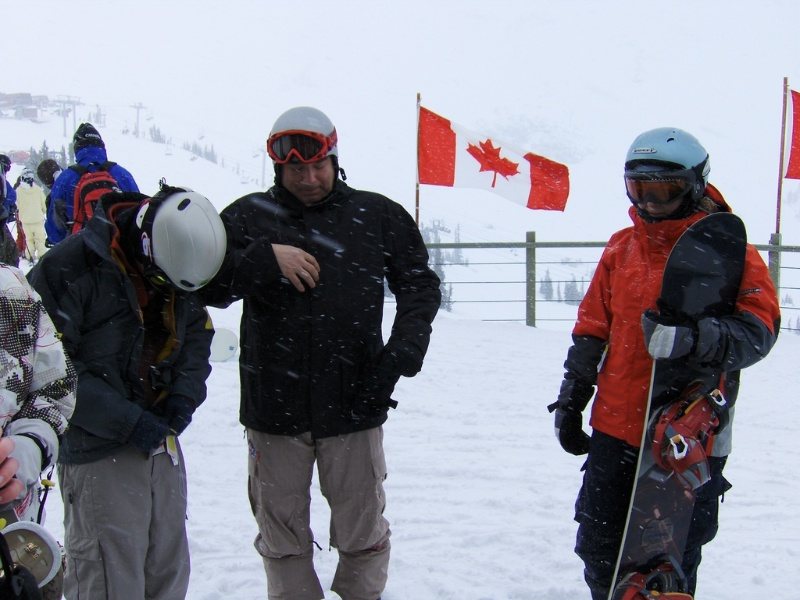helmet: (140, 188, 231, 286), (626, 126, 706, 165), (271, 106, 337, 151)
